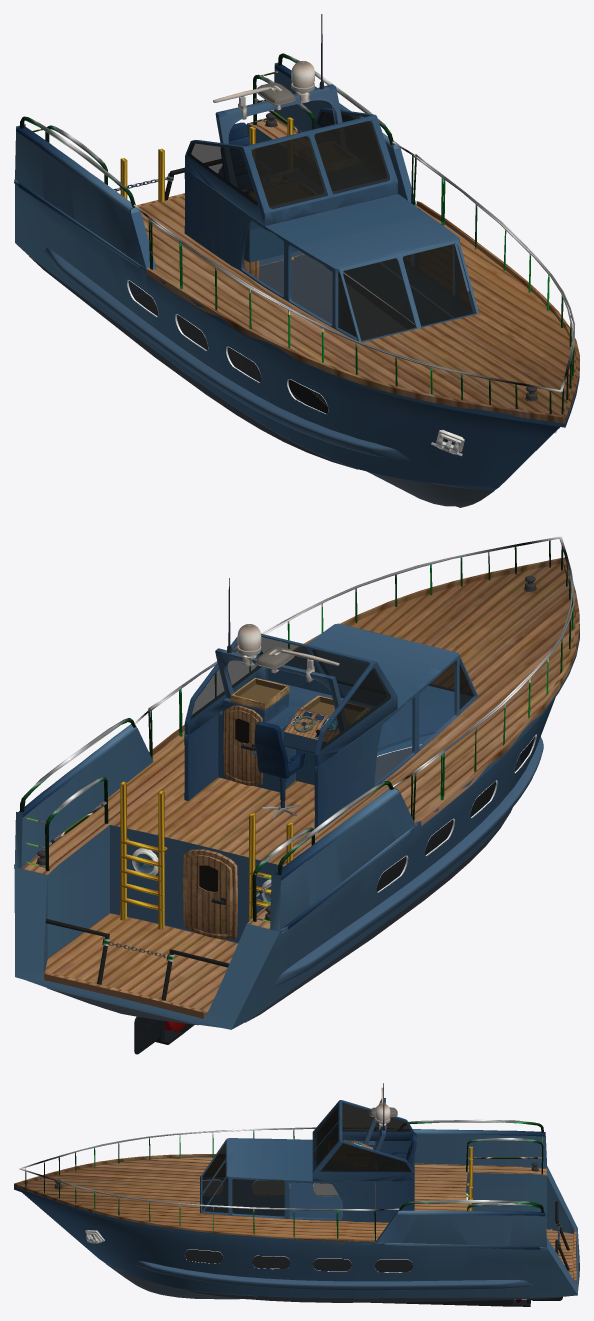
Rendered from boat-bow-raider.glb.
The picture shows the model from 3 angles, top to bottom: view 1: azimuth 30°, elevation 25°; view 2: azimuth 150°, elevation 25°; view 3: azimuth 270°, elevation 25°; orthographic projection. The views are drawn at different scales.
Parts seen in each view (by area): view 1: Object_25, Object_23, Object_14, Object_7, Object_28, Object_38, Object_22; view 2: Object_25, Object_23, Object_28, Object_14, Object_7, Object_22, Object_19, Object_38, Object_24, Object_35, Object_33; view 3: Object_25, Object_23, Object_14, Object_7, Object_28, Object_24, Object_38.
Boxes of the visible parts, bbox=[...] form: Object_25: bbox=[14, 62, 579, 490]; Object_23: bbox=[133, 118, 579, 423]; Object_14: bbox=[128, 111, 479, 413]; Object_7: bbox=[29, 254, 494, 507]; Object_28: bbox=[20, 53, 574, 414]; Object_38: bbox=[213, 61, 314, 119]; Object_22: bbox=[120, 117, 293, 259]; Object_25: bbox=[14, 603, 579, 1029]; Object_23: bbox=[21, 557, 579, 1018]; Object_28: bbox=[20, 536, 574, 1000]; Object_14: bbox=[131, 637, 535, 891]; Object_7: bbox=[44, 745, 512, 1025]; Object_22: bbox=[120, 781, 293, 929]; Object_19: bbox=[230, 677, 369, 725]; Object_38: bbox=[237, 624, 339, 682]; Object_24: bbox=[134, 1016, 194, 1054]; Object_35: bbox=[129, 734, 536, 903]; Object_33: bbox=[199, 718, 249, 891]; Object_25: bbox=[14, 1098, 578, 1297]; Object_23: bbox=[14, 1140, 576, 1283]; Object_14: bbox=[184, 1103, 412, 1271]; Object_7: bbox=[106, 1230, 579, 1302]; Object_28: bbox=[19, 1119, 569, 1270]; Object_24: bbox=[258, 1296, 562, 1306]; Object_38: bbox=[369, 1087, 397, 1129].
Size of the model in its own units: 5.91 by 7.61 by 16.57.
Materials: 31 (28 with a texture image).
